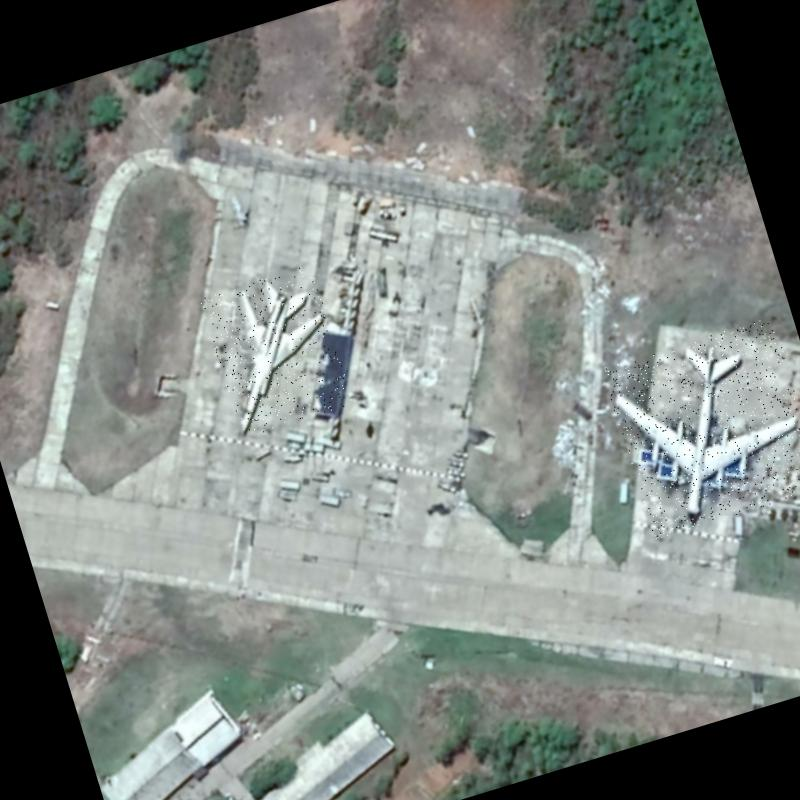A12: (200, 264, 354, 439)
A17: (601, 316, 800, 540)
